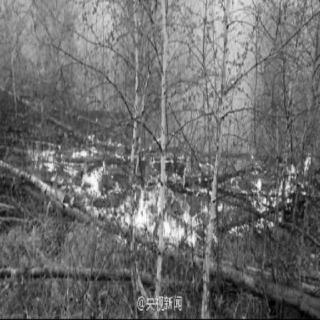Fire: (27, 127, 315, 251)
